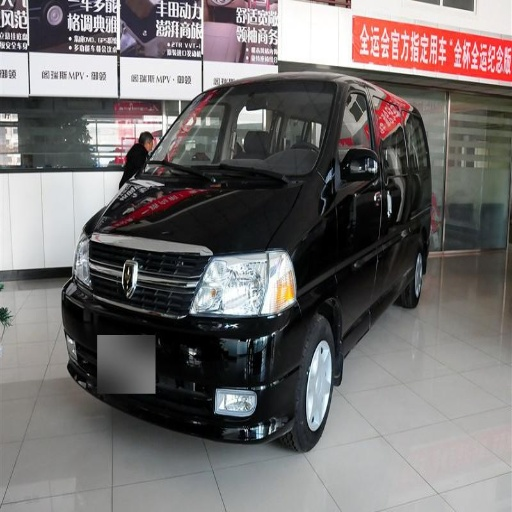front_bumper: (64, 240, 310, 437)
front_glass: (135, 82, 339, 177)
front_left_door: (336, 92, 383, 317)
